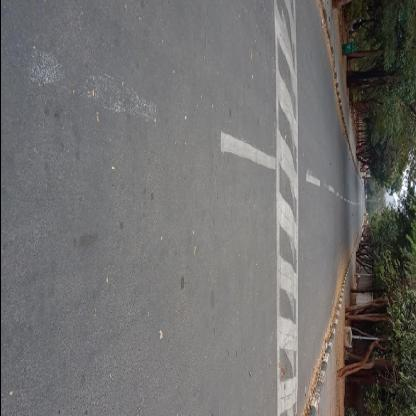speed-bumps: (265, 1, 307, 415)
